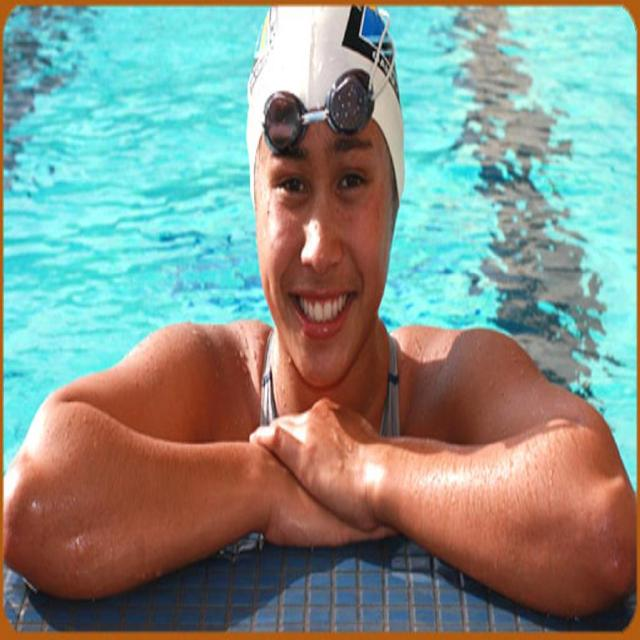Face: (243, 96, 408, 383)
